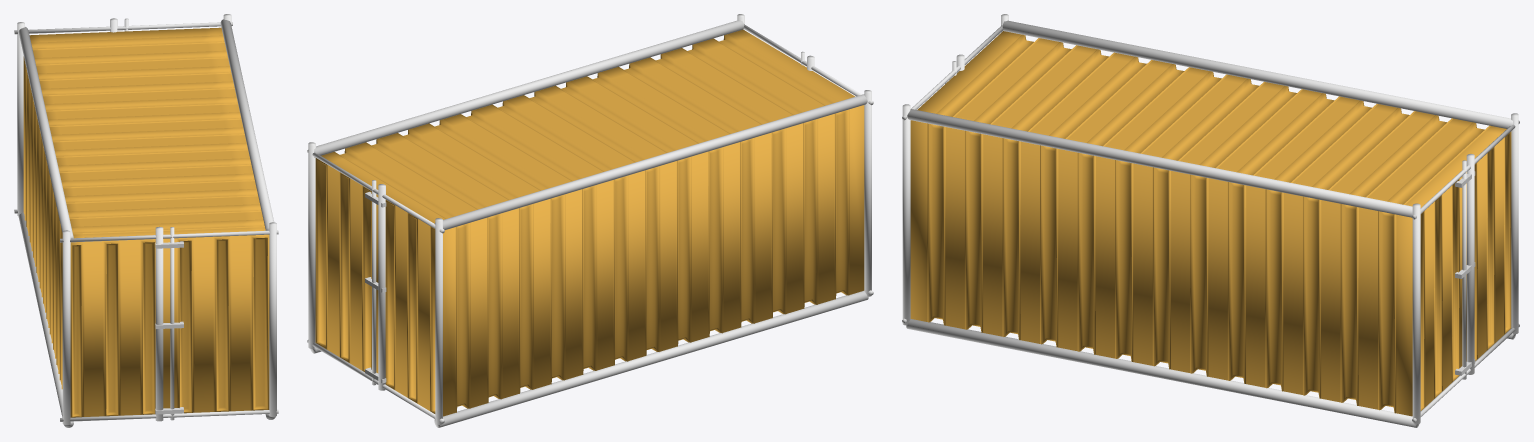
Rendered from container.glb.
3 views of the same model, side by side, from view 1: azimuth 30°, elevation 25°; view 2: azimuth 150°, elevation 25°; view 3: azimuth 270°, elevation 25° (orthographic). The views are drawn at different scales.
Parts seen in each view (by area): view 1: Cylinder.008; view 2: Cylinder.008; view 3: Cylinder.008.
Boxes of the visible parts, box(x1,y1,x2,y2) form: Cylinder.008: box(14, 14, 278, 427); Cylinder.008: box(307, 14, 873, 427); Cylinder.008: box(902, 14, 1519, 427).
Bounding box in the file's own units: 2.95 × 1.57 × 3.95.
